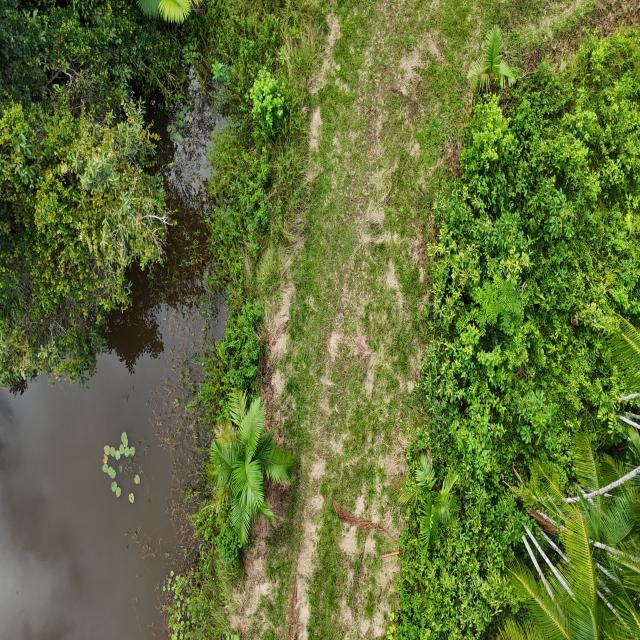vegetation: (386, 22, 639, 638)
